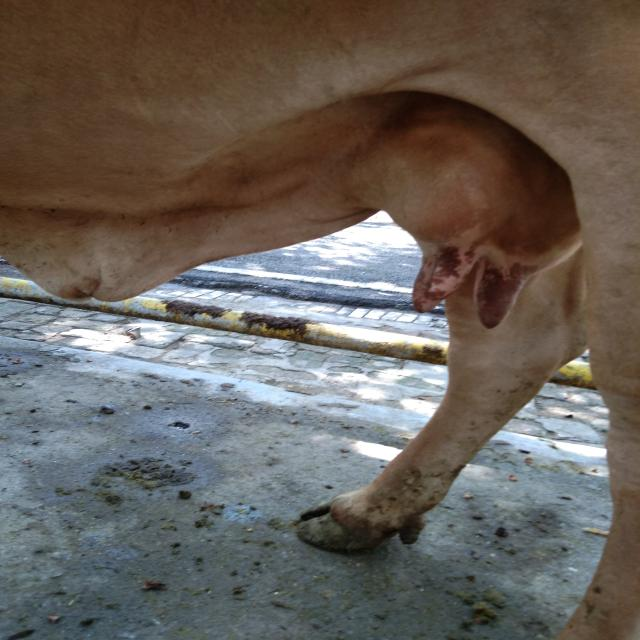Hoof: (294, 490, 424, 554)
